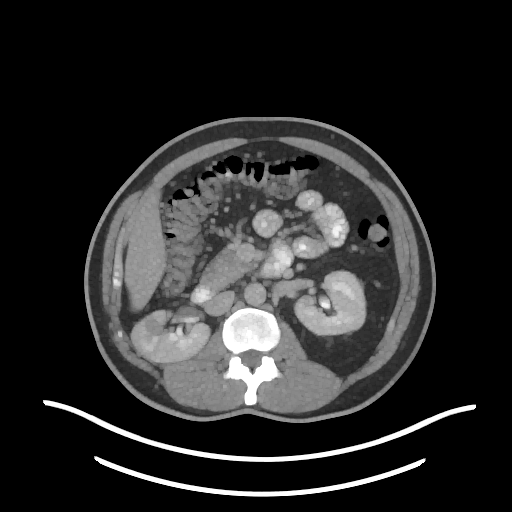Lesion: (142, 318, 166, 336)
